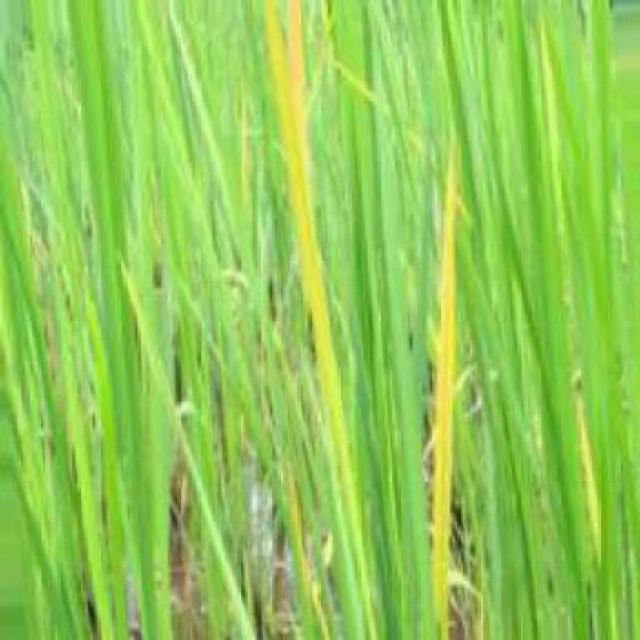Rice Tungro: (250, 2, 382, 638), (429, 139, 468, 630)
